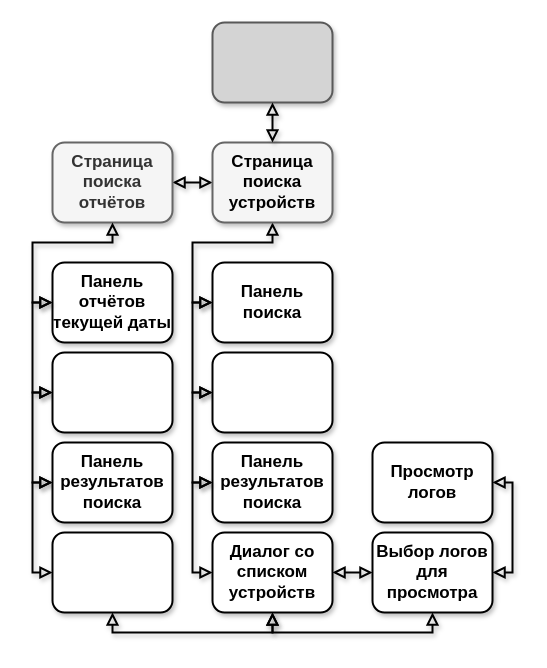
Image size: 547x668. Some labels were removed from this diagram. Each missing label, with the centre of its shape:
"Daily Info" goes at [113,573].
"Авторизация (login)" goes at [273,63].
"Панель поиска отчётов по дате" goes at [113,393].
"Панель фильтров поиска" goes at [273,393].
